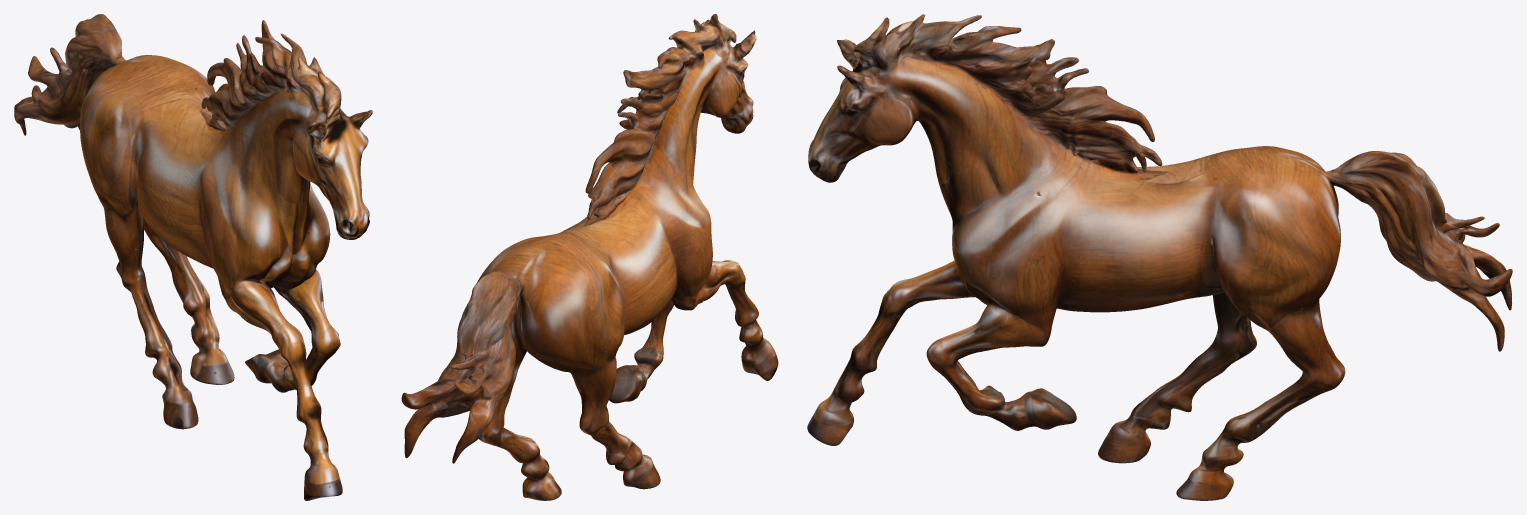
Rendered from Horse.fbx.
3 views of the same model, side by side, from view 1: azimuth 30°, elevation 25°; view 2: azimuth 150°, elevation 25°; view 3: azimuth 270°, elevation 25° (orthographic). The views are drawn at different scales.
Parts seen in each view (by area): view 1: Mesh_0; view 2: Mesh_0; view 3: Mesh_0.
Boxes of the visible parts, box(x1,y1,x2,y2) form: Mesh_0: box(14, 14, 372, 500); Mesh_0: box(401, 14, 778, 500); Mesh_0: box(807, 14, 1512, 500).
Bounding box in the file's own units: 46.84 × 144 × 200.
Materials: 1 (1 with a texture image).
